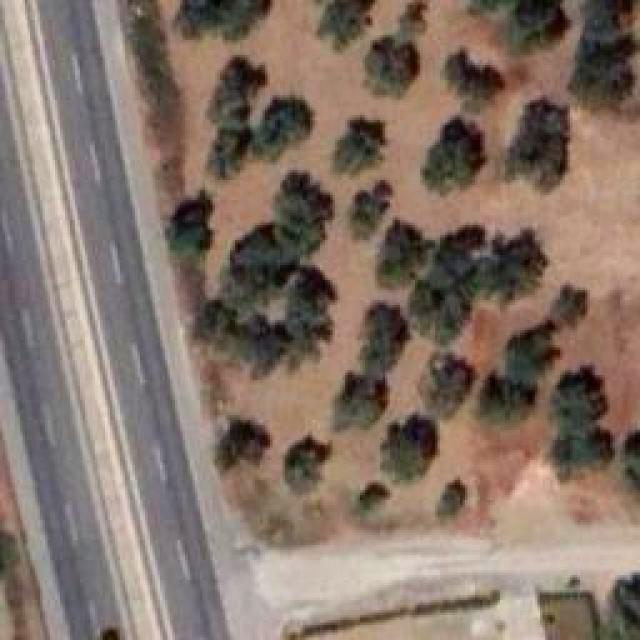Tree: (409, 225, 487, 342), (496, 98, 577, 192), (224, 227, 297, 297), (377, 405, 445, 475), (481, 227, 545, 299), (422, 120, 485, 192), (204, 53, 265, 126), (173, 0, 268, 44), (282, 267, 340, 339), (547, 365, 612, 429), (475, 375, 542, 432), (276, 175, 332, 242), (565, 0, 640, 50), (327, 365, 385, 429), (364, 35, 425, 95), (326, 112, 390, 169), (501, 320, 560, 381), (350, 308, 408, 370), (212, 410, 270, 469), (571, 53, 630, 111), (422, 350, 476, 412), (444, 55, 500, 114), (315, 0, 385, 47), (342, 175, 392, 240), (378, 223, 430, 284), (164, 190, 206, 265), (257, 100, 312, 157), (596, 567, 640, 638), (553, 430, 613, 481), (500, 3, 560, 53), (282, 435, 330, 491), (232, 318, 282, 371), (204, 125, 250, 179), (194, 298, 237, 352), (548, 283, 592, 334), (620, 425, 640, 504), (437, 472, 470, 519), (354, 480, 390, 517), (398, 2, 437, 34), (463, 0, 500, 22)
